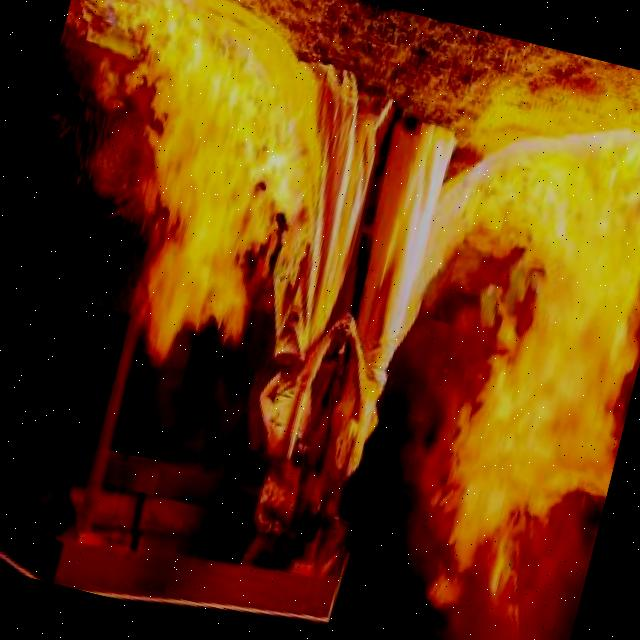fire: (403, 254, 640, 640), (59, 0, 355, 196), (96, 154, 321, 399), (448, 98, 640, 296)
